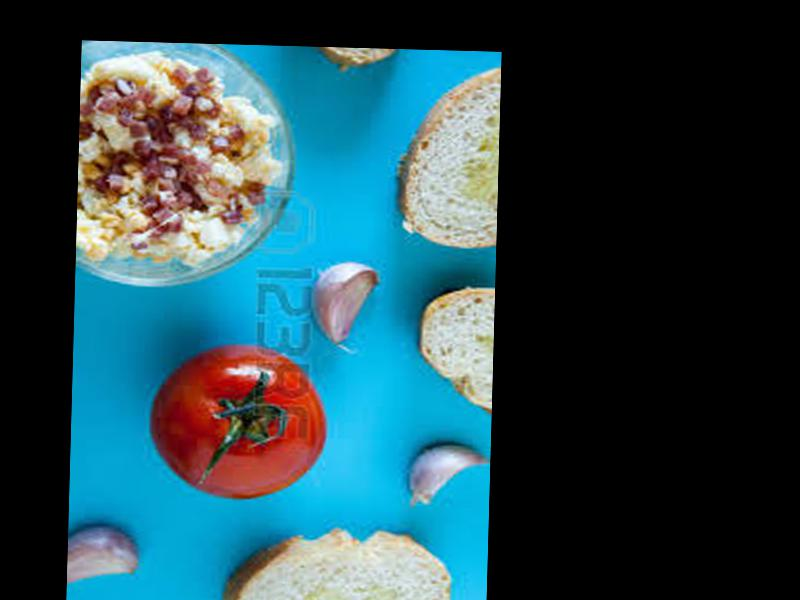Tomato: (149, 348, 329, 501)
